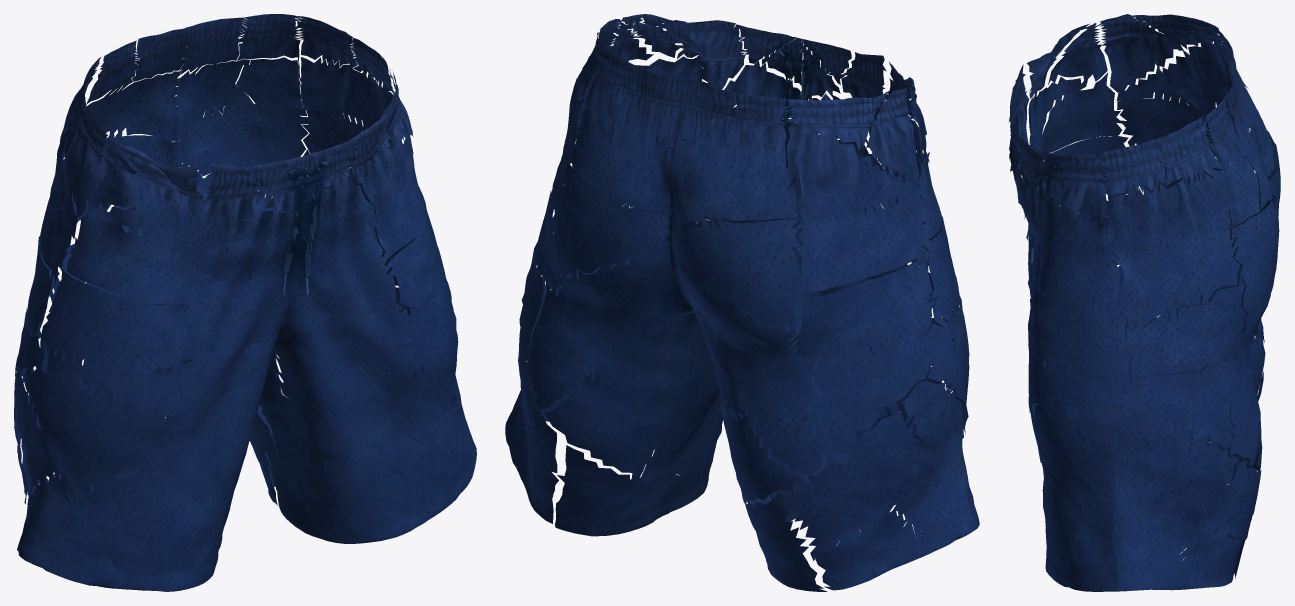
The model's file is dante.mobile.glb.
The picture shows the model from 3 angles, left to right: view 1: azimuth 30°, elevation 25°; view 2: azimuth 150°, elevation 25°; view 3: azimuth 270°, elevation 25°; orthographic projection. The views are drawn at different scales.
Visible parts, largest first — view 1: geometry_0; view 2: geometry_0; view 3: geometry_0.
Boxes of the visible parts, x1=… form: geometry_0: x1=14, y1=14, x2=476, y2=591; geometry_0: x1=505, y1=14, x2=979, y2=591; geometry_0: x1=1009, y1=14, x2=1280, y2=591.
Size of the model in its own units: 0.4981 by 0.4974 by 0.2699.
1 material, 1 textured.
